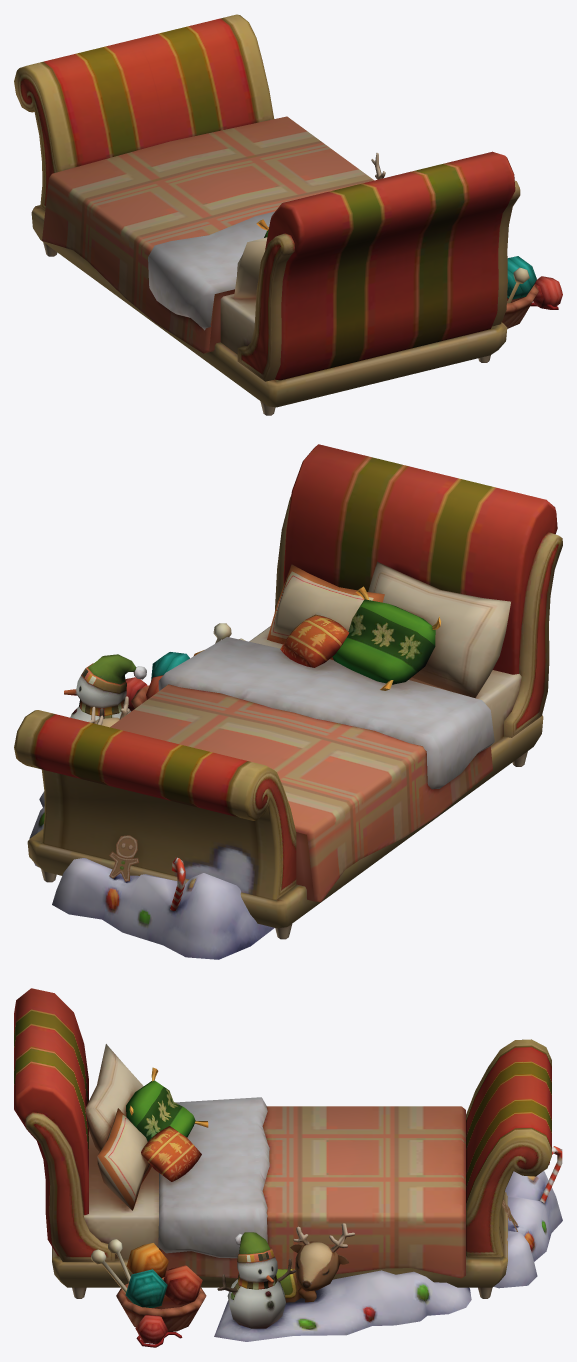
The model's file is furn_sd2016_bed_001.gltf.
The picture shows the model from 3 angles, top to bottom: view 1: azimuth 30°, elevation 25°; view 2: azimuth 150°, elevation 25°; view 3: azimuth 270°, elevation 25°; orthographic projection. The views are drawn at different scales.
Visible parts, largest first — view 1: sd2016_bed_001; view 2: sd2016_bed_001; view 3: sd2016_bed_001.
Part boxes in pixels (<box>): sd2016_bed_001: <box>14,14,562,415</box>; sd2016_bed_001: <box>14,444,562,959</box>; sd2016_bed_001: <box>14,988,562,1347</box>.
Size of the model in its own units: 1.1 by 0.6691 by 1.57.
1 material, 1 textured.
